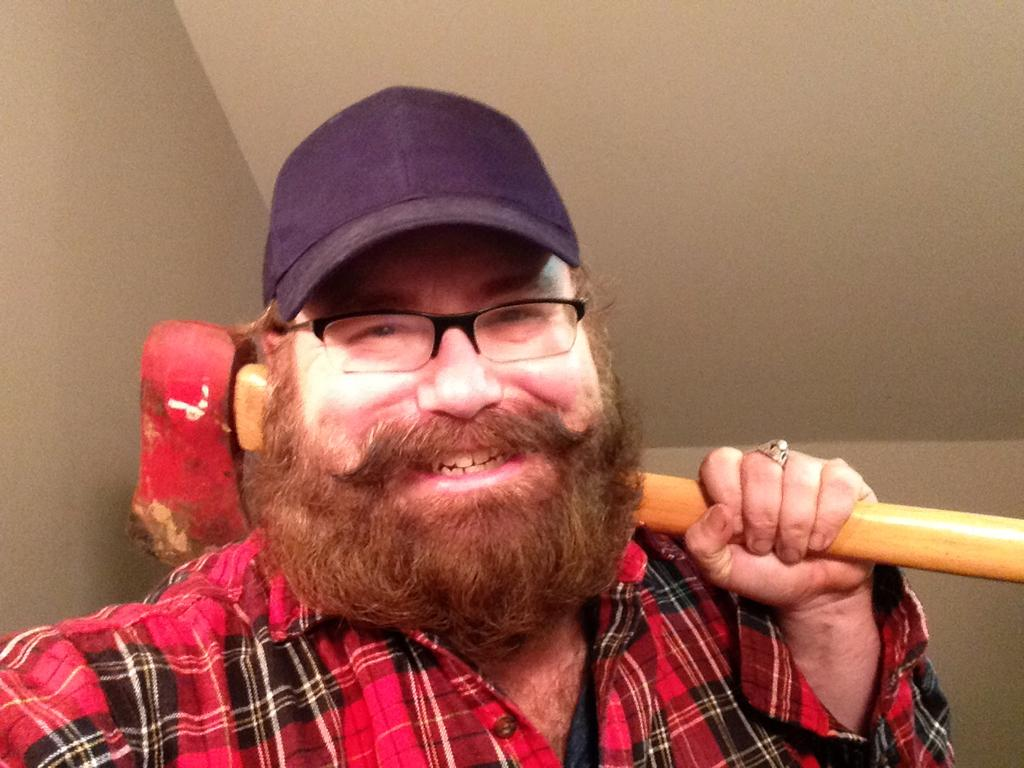Hat: (263, 84, 577, 324)
